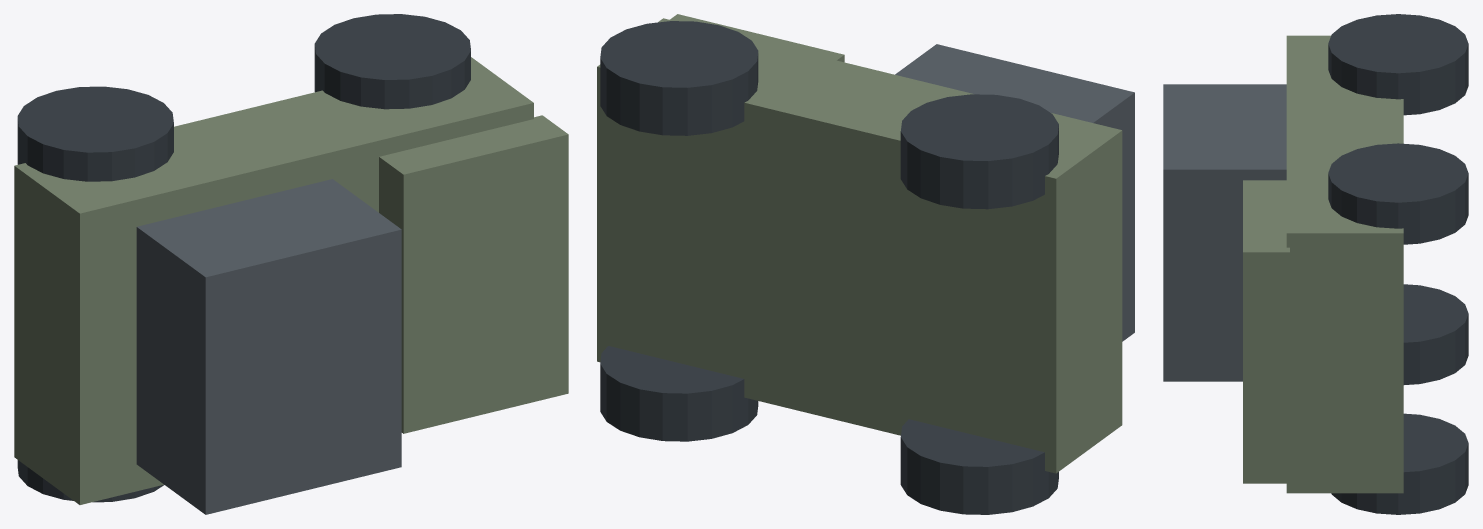
The model's file is jeep_4x4.glb.
3 renders of one model, left to right at view 1: azimuth 30°, elevation 25°; view 2: azimuth 150°, elevation 25°; view 3: azimuth 270°, elevation 25°, orthographic. The views are drawn at different scales.
Parts seen in each view (by area): view 1: g2_cab, g0_body, g1_hood, g4_wheel, g6_wheel, g3_wheel; view 2: g0_body, g4_wheel, g6_wheel, g2_cab, g3_wheel, g5_wheel, g1_hood; view 3: g0_body, g2_cab, g1_hood, g6_wheel, g4_wheel, g5_wheel, g3_wheel.
Boxes of the visible parts, x1=… form: g2_cab: x1=136, y1=179, x2=401, y2=514; g0_body: x1=14, y1=57, x2=533, y2=504; g1_hood: x1=379, y1=115, x2=568, y2=433; g4_wheel: x1=17, y1=86, x2=173, y2=181; g6_wheel: x1=314, y1=14, x2=470, y2=109; g3_wheel: x1=17, y1=460, x2=164, y2=502; g0_body: x1=597, y1=18, x2=1122, y2=473; g4_wheel: x1=900, y1=94, x2=1058, y2=209; g6_wheel: x1=600, y1=21, x2=758, y2=135; g2_cab: x1=895, y1=44, x2=1134, y2=341; g3_wheel: x1=900, y1=419, x2=1058, y2=514; g5_wheel: x1=600, y1=346, x2=758, y2=441; g1_hood: x1=670, y1=14, x2=844, y2=62; g0_body: x1=1286, y1=35, x2=1403, y2=493; g2_cab: x1=1163, y1=84, x2=1286, y2=381; g1_hood: x1=1243, y1=180, x2=1289, y2=483; g6_wheel: x1=1328, y1=143, x2=1468, y2=244; g4_wheel: x1=1328, y1=14, x2=1468, y2=115; g5_wheel: x1=1331, y1=413, x2=1468, y2=514; g3_wheel: x1=1403, y1=284, x2=1468, y2=384.
Bounding box in the file's own units: 2.25 × 1.62 × 1.43.
